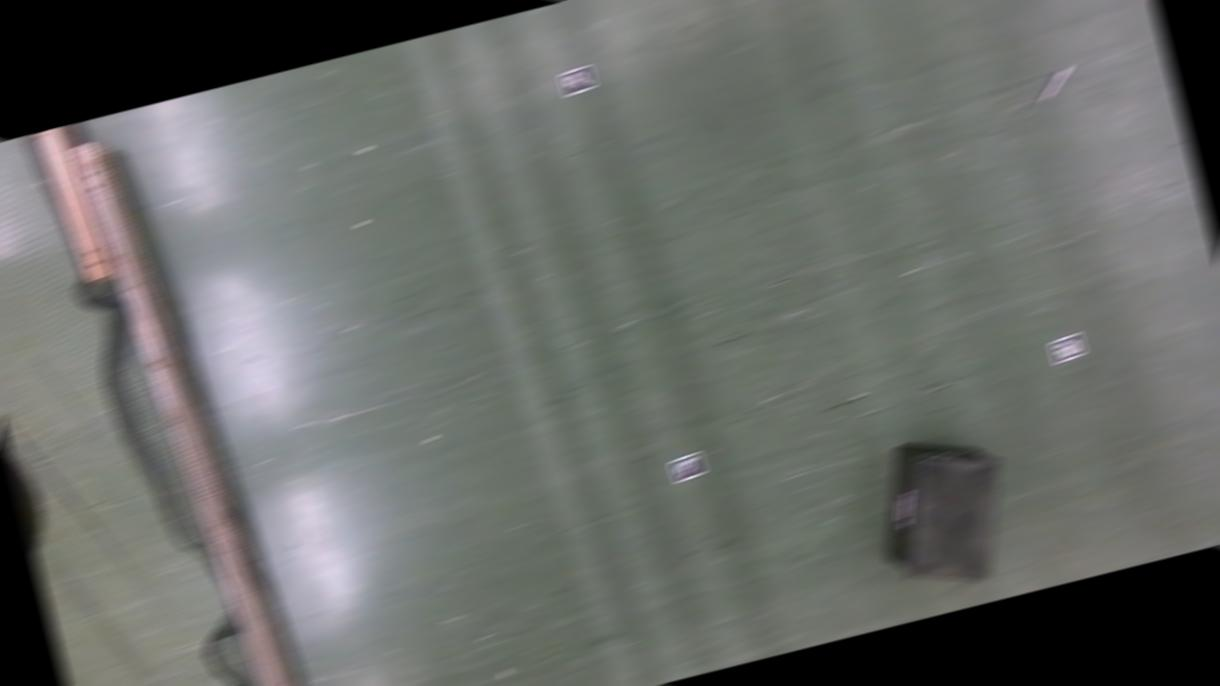probes: (1032, 68, 1078, 104)
rako: (858, 420, 1028, 600)
